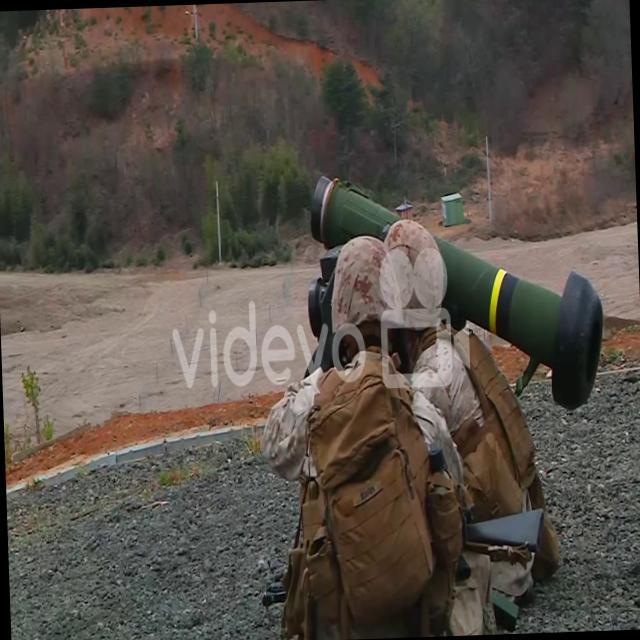rocket: (311, 163, 605, 417)
